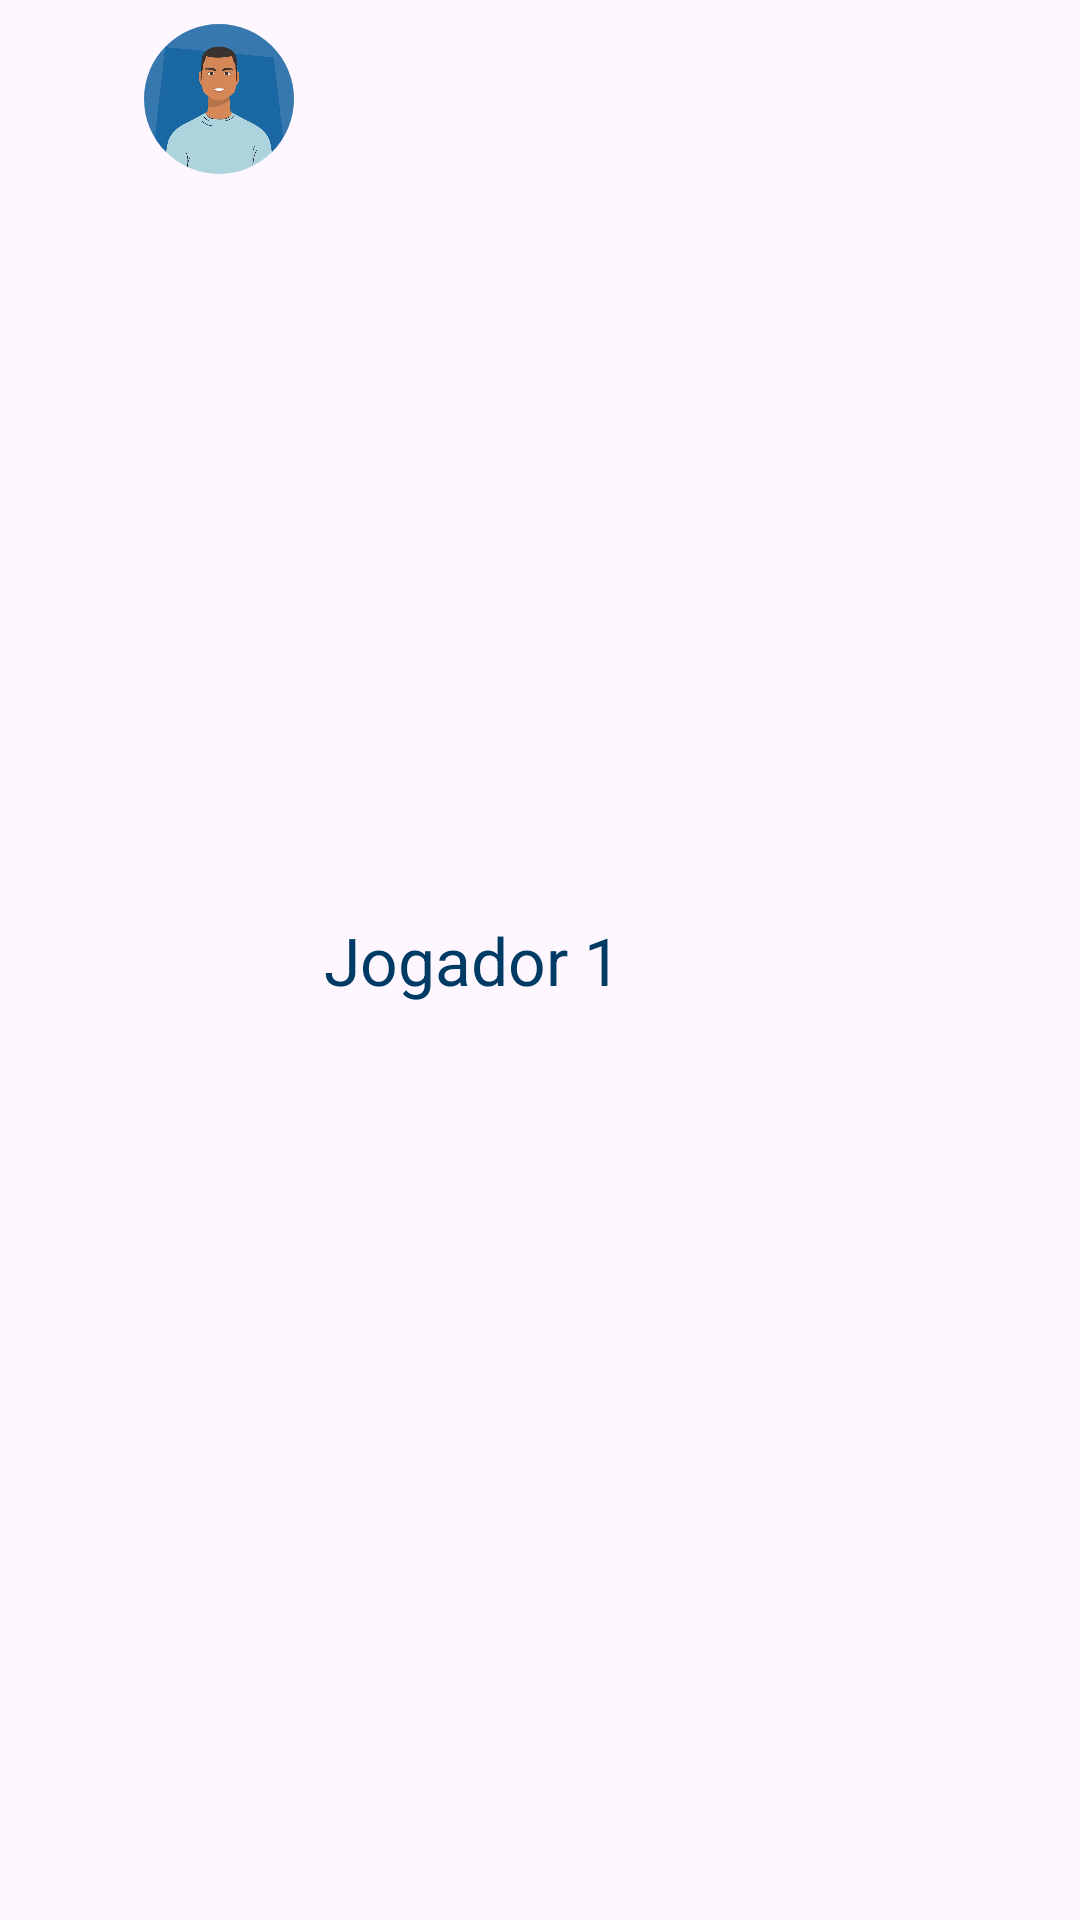

Named icons in this screenshot (1080w x 1920h) and their bounding boxes, (x1, y1, x2, y2):
Foto do jogador: (144, 24, 294, 174)
